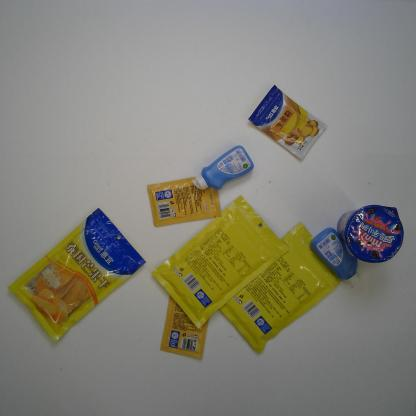Dessert: (337, 204, 404, 264)
Dried Fruit: (149, 195, 291, 330), (7, 207, 146, 343), (217, 222, 343, 356)
Personal Hygiene: (310, 227, 361, 286), (191, 145, 255, 190)
Seasoner: (247, 84, 328, 162), (147, 174, 222, 228), (158, 294, 209, 360)
